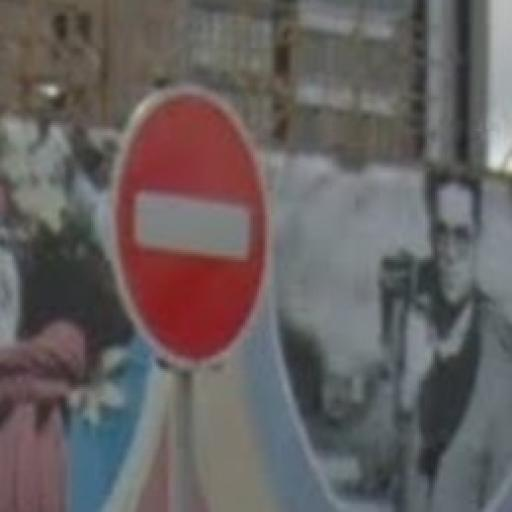traffic_sign: (106, 82, 276, 366)
